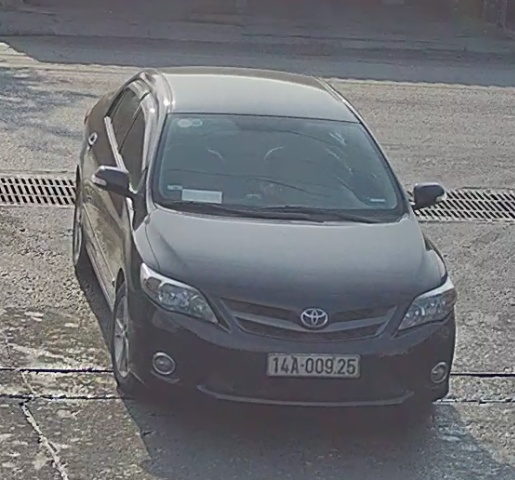vehicle plate: (261, 343, 363, 379)
